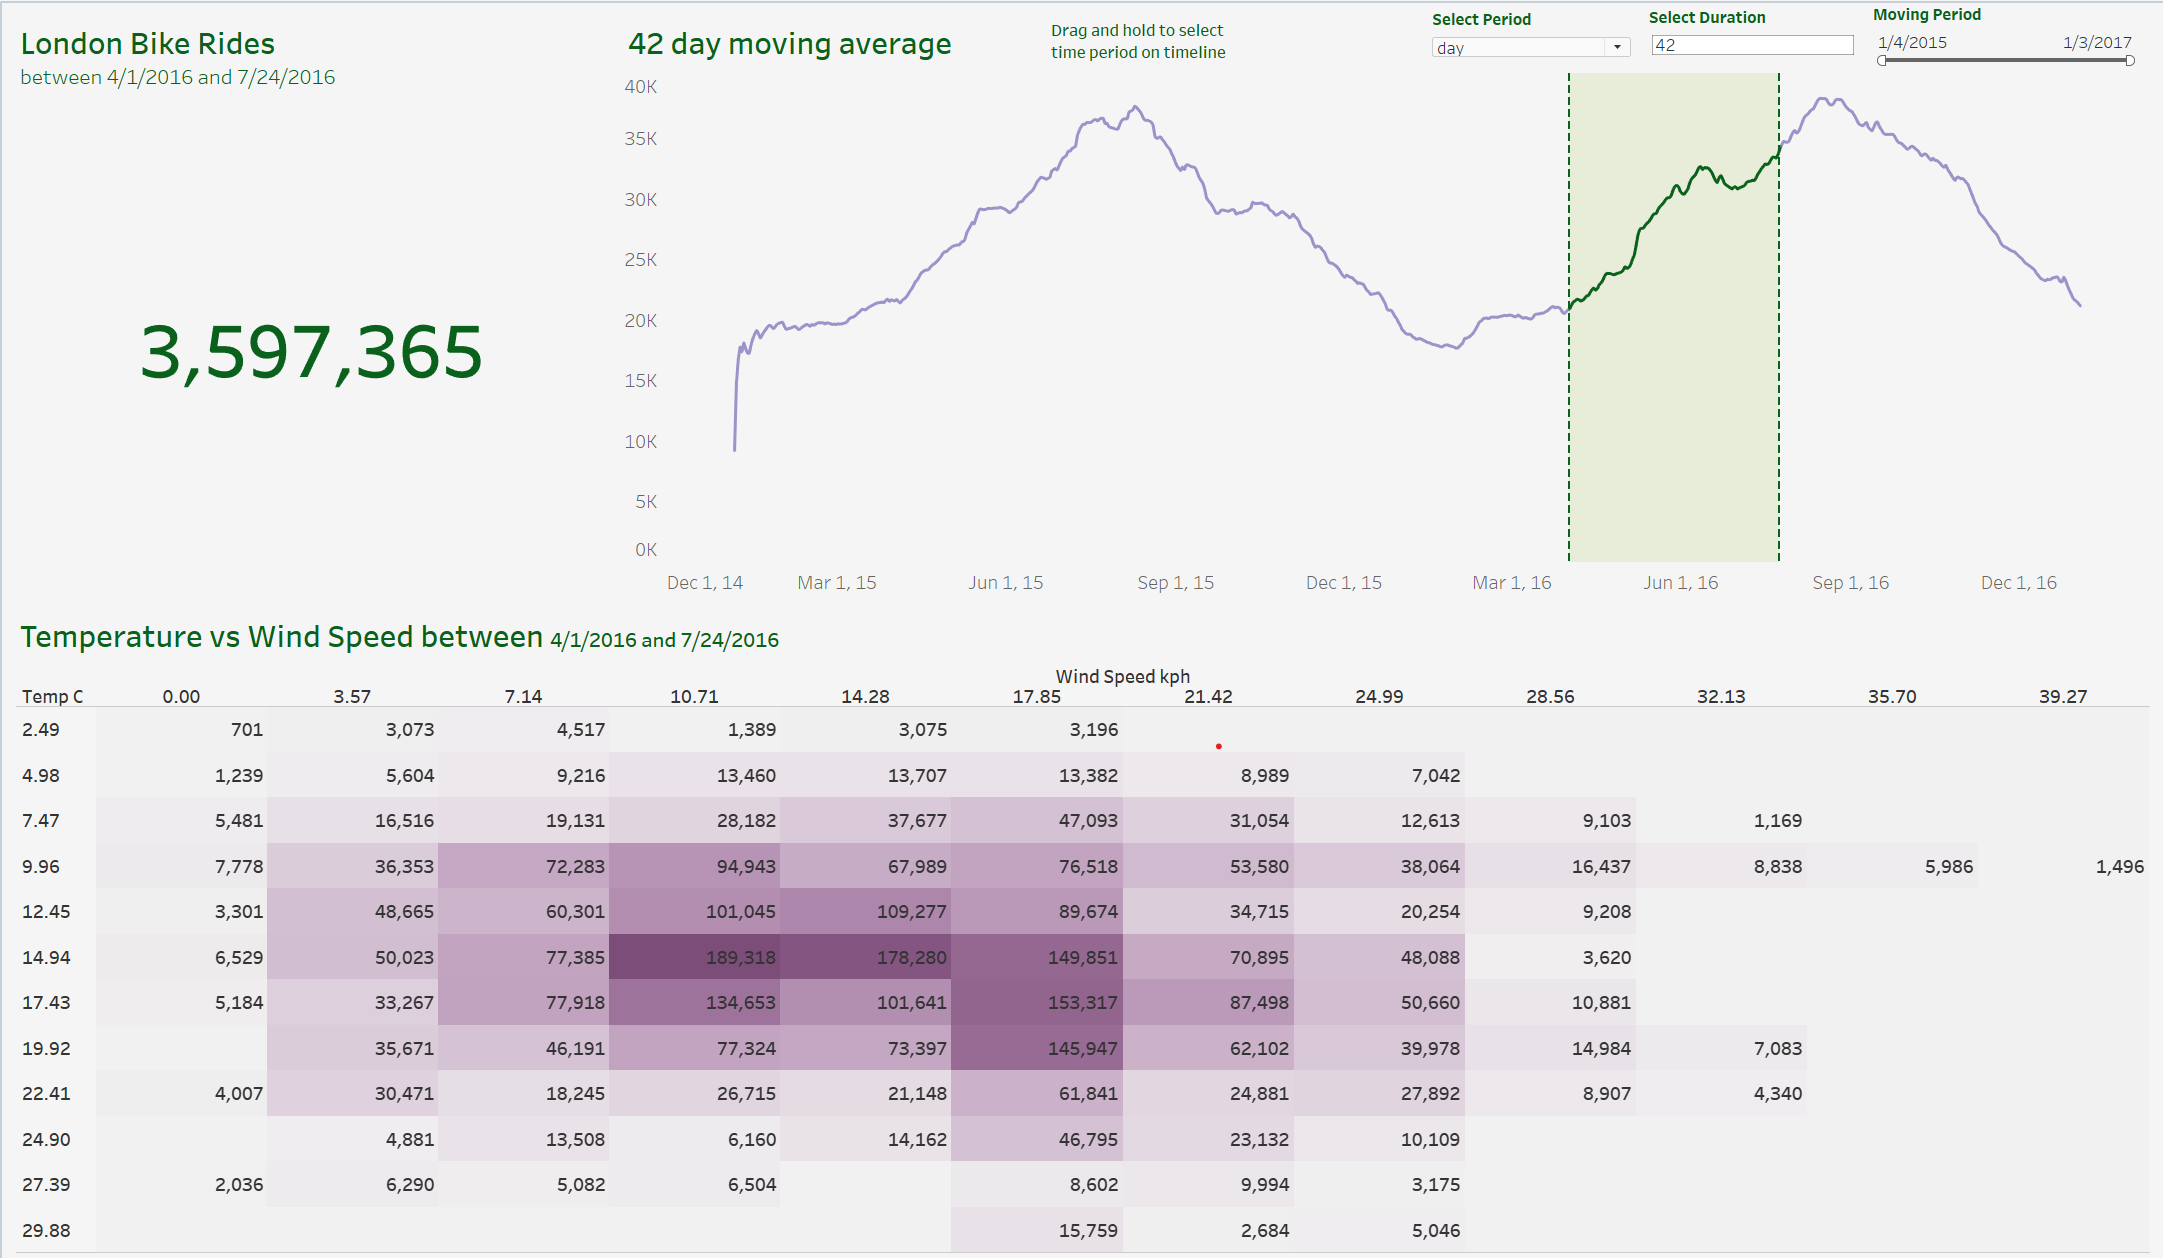

What the dashboard file says about the page in this screenshot:
{"tool":"tableau","page":{"name":"Dashboard","canvas":[2166,1268],"ordinal":0},"visuals":[{"type":"filter","title":"Moving Average","param":"[federated.0s4r7vp0b0qzlo13d367v0gwe7w9].[none:Calculation_307370718909652992:qk","box":[1872.7,1.6,266.4,104]},{"type":"parameter","param":"[Parameters].[Parameter 2]","box":[1649.1,5,207.7,90.8]},{"type":"parameter","param":"[Parameters].[Parameter 1]","box":[1428.7,6.6,204.6,84.2]},{"type":"worksheet","title":"Total Rides","mark":"Automatic","box":[8,8,608.3,592.7]},{"type":"worksheet","title":"Moving Average","mark":"Automatic","rows":["Calculation1"],"cols":["Calculation_307370718909652992"],"box":[616.2,8,1541.8,592.7]},{"type":"text","box":[1046.6,9.5,243.5,60.5]},{"type":"worksheet","title":"Heat Map","mark":"Square","rows":["temp real C (bin)"],"cols":["Wind Speed Kph (bin)"],"box":[8,600.7,2150,659.3]}]}

Visuals, with their boxes in screenshot pixels (x1, y1, x2, y2), scaled from the page's 2166x1268 canvas onto the 2163x1258 screenshot:
"Moving Average" filter: x1=1870, y1=2, x2=2136, y2=105
parameter: x1=1647, y1=5, x2=1854, y2=95
parameter: x1=1427, y1=7, x2=1631, y2=90
"Total Rides" worksheet: x1=8, y1=8, x2=615, y2=596
"Moving Average" worksheet: x1=615, y1=8, x2=2155, y2=596
text: x1=1045, y1=9, x2=1288, y2=69
"Heat Map" worksheet (Square marks): x1=8, y1=596, x2=2155, y2=1250
